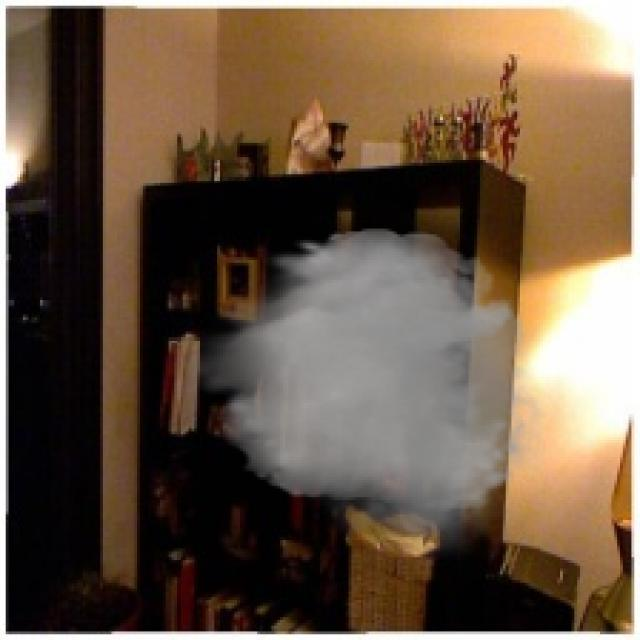Smoke: (174, 220, 563, 566)
